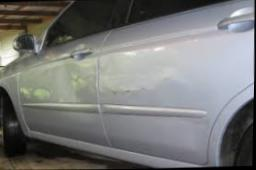Door: (62, 51, 176, 109)
